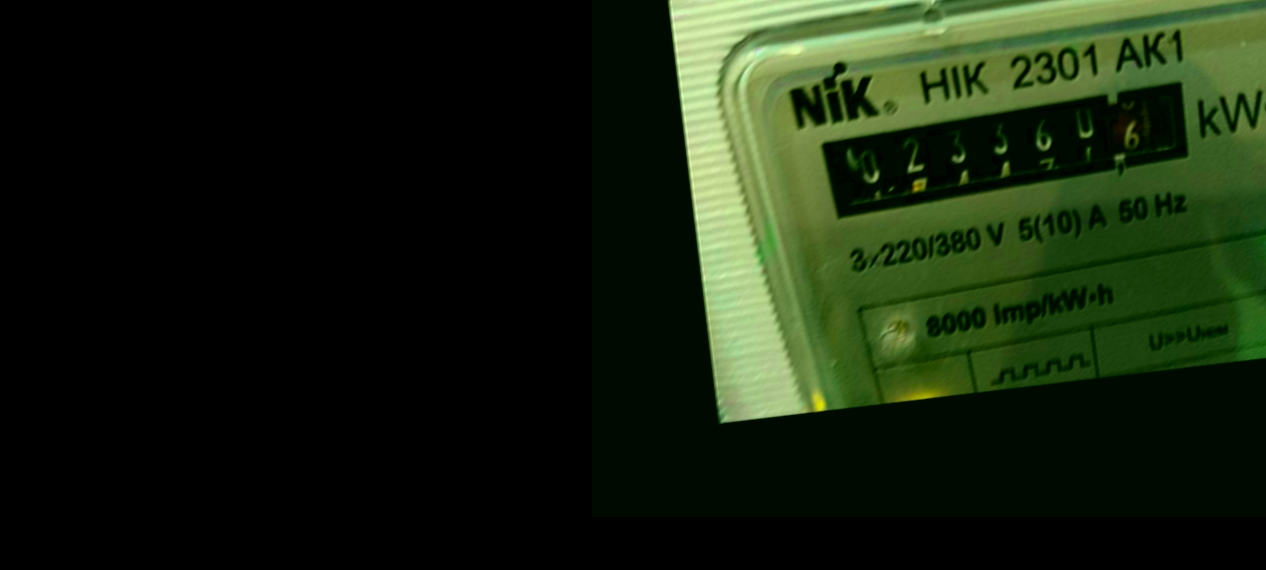0: (854, 145, 884, 189), (1071, 104, 1098, 143)
2: (897, 133, 928, 176)
3: (985, 119, 1012, 160), (944, 126, 969, 169)
6: (1027, 114, 1058, 158), (1120, 117, 1145, 156)
screen: (796, 68, 1208, 233)
